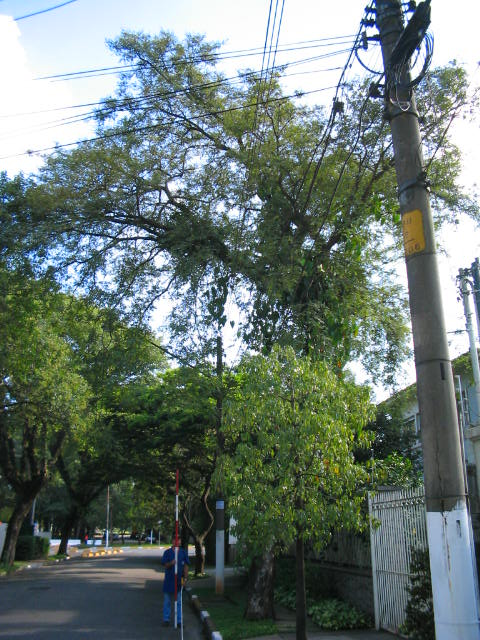crown: (28, 32, 479, 376)
stem: (238, 550, 285, 621)
stick: (170, 466, 184, 628)
tree: (24, 30, 479, 622)
